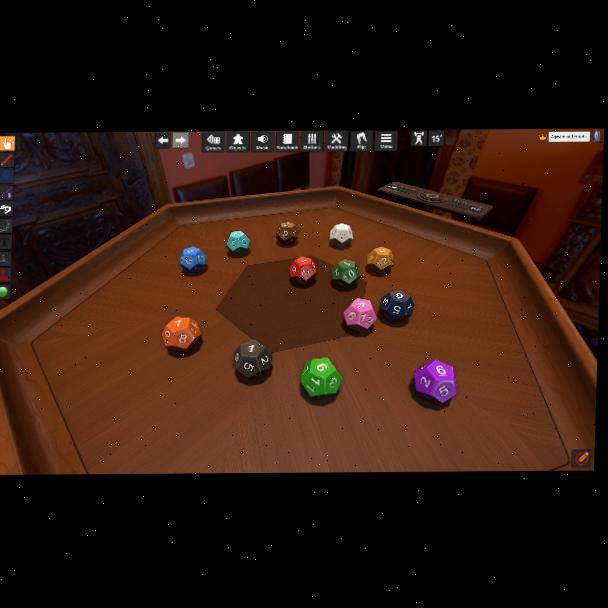d12: (412, 360, 457, 403), (233, 339, 274, 379), (299, 357, 339, 396), (164, 316, 203, 351), (342, 298, 376, 333), (378, 290, 411, 322), (179, 246, 208, 275), (288, 258, 315, 286), (330, 259, 358, 286), (366, 246, 393, 272), (226, 231, 251, 256), (275, 222, 297, 246), (330, 223, 352, 246)
